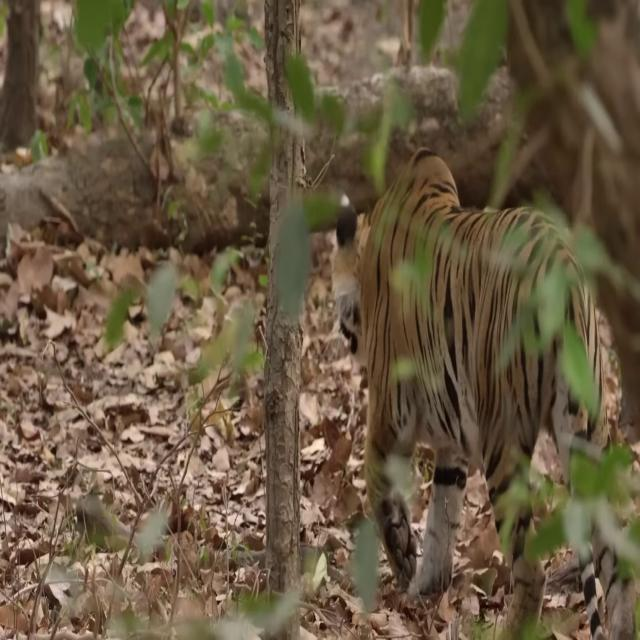tiger: (332, 143, 640, 639)
